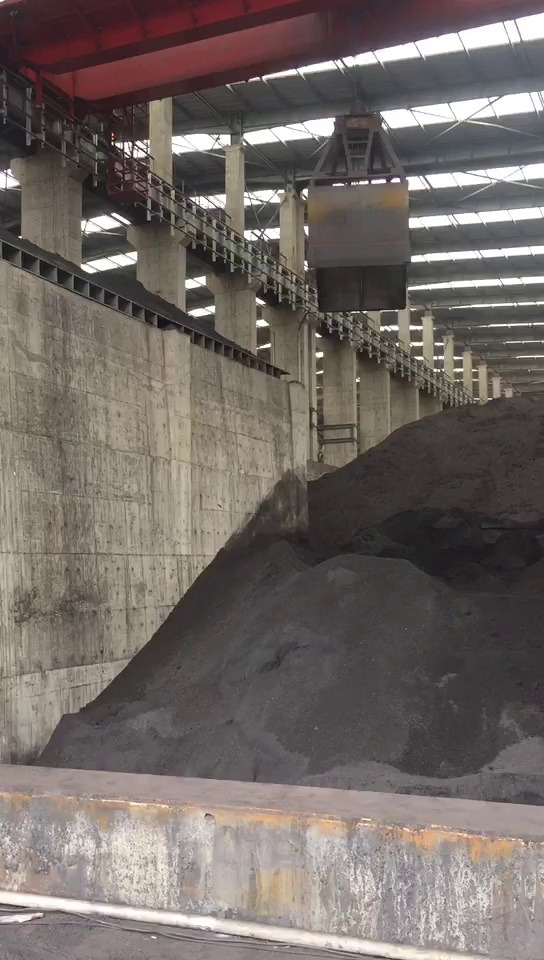grab: (286, 97, 418, 316)
